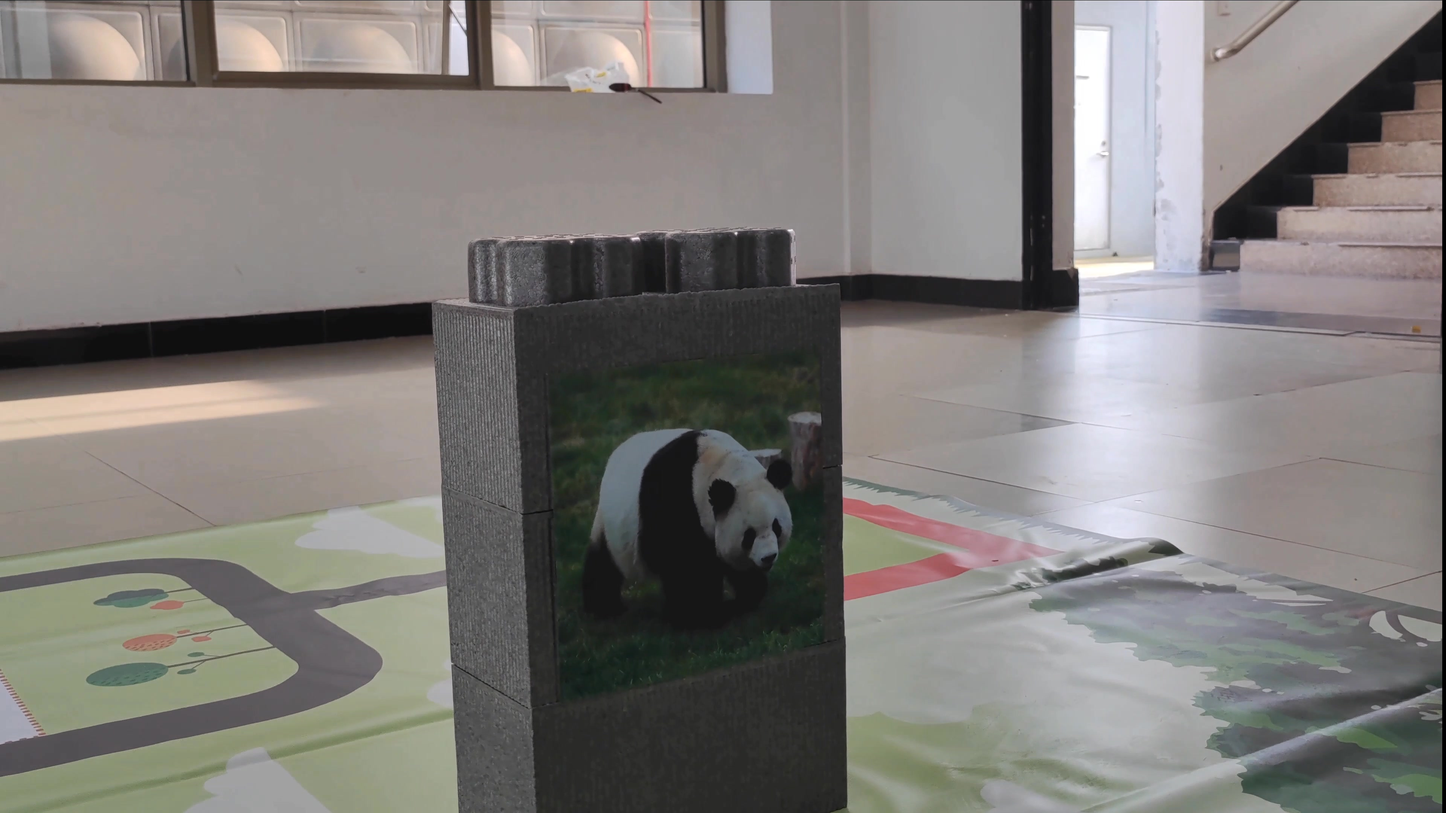panda: (555, 382, 818, 647)
